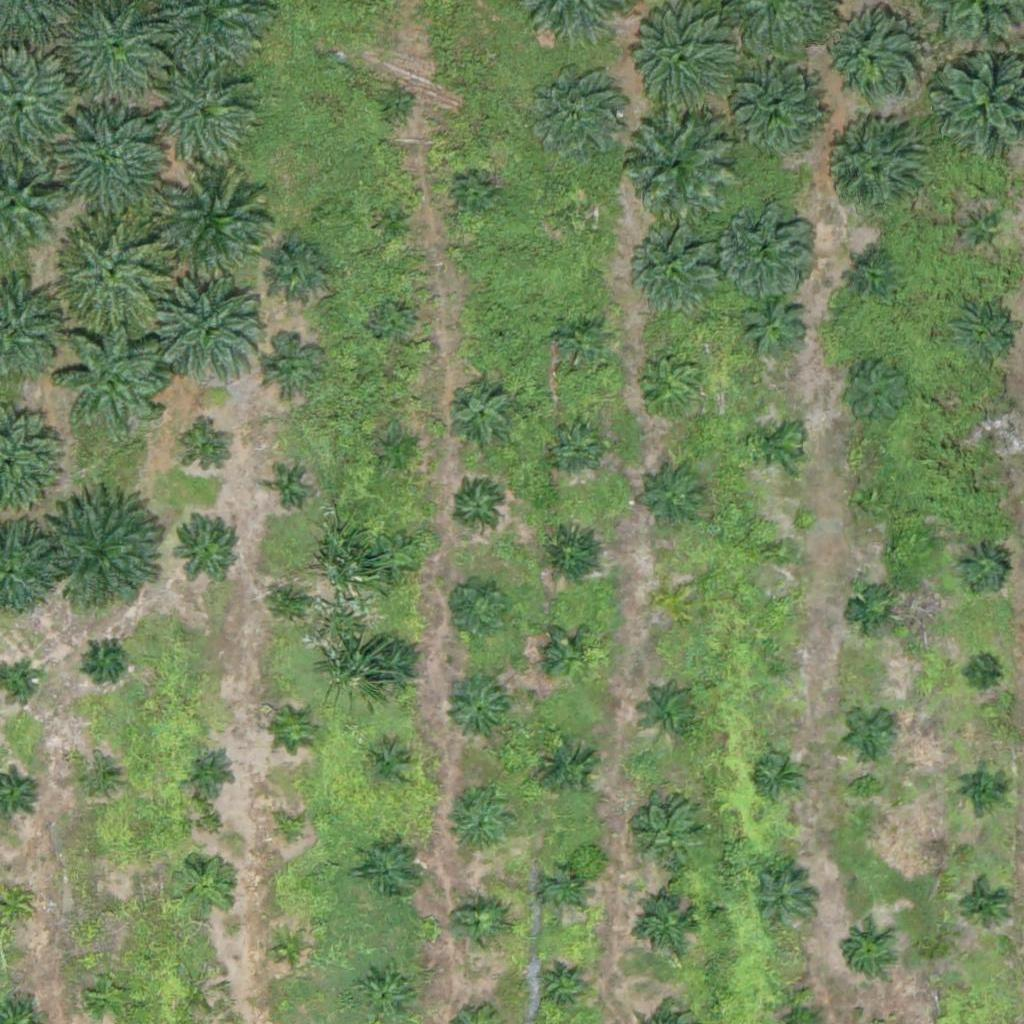Kelapa_Sawit: (44, 105, 169, 231), (156, 173, 281, 299), (46, 493, 171, 618), (616, 107, 729, 220), (58, 320, 171, 433), (623, 3, 735, 116), (155, 280, 267, 393), (59, 215, 171, 328), (156, 68, 256, 169), (526, 63, 626, 164), (727, 63, 827, 164), (819, 8, 919, 109), (817, 121, 917, 222), (722, 198, 822, 299), (635, 231, 722, 319), (438, 573, 513, 649), (170, 509, 245, 584), (836, 354, 911, 429), (447, 794, 510, 857), (753, 867, 816, 930), (360, 837, 423, 900), (361, 637, 424, 700), (257, 336, 320, 399), (267, 238, 330, 301), (641, 466, 704, 529), (540, 521, 603, 584), (550, 311, 613, 374), (446, 678, 508, 741), (536, 738, 598, 801), (636, 895, 698, 958), (638, 805, 701, 867), (644, 683, 706, 746), (447, 380, 509, 443), (952, 302, 1014, 365), (743, 293, 805, 356), (641, 356, 703, 419), (175, 855, 237, 918), (956, 880, 1006, 931), (365, 741, 415, 792), (184, 426, 234, 477), (749, 416, 799, 467), (956, 541, 1006, 592), (372, 535, 422, 586), (454, 900, 504, 950), (958, 763, 1008, 813), (846, 708, 896, 758), (546, 630, 596, 680), (753, 751, 803, 801), (841, 926, 891, 976), (454, 482, 504, 532), (548, 423, 598, 473), (848, 588, 898, 638), (952, 206, 1002, 256), (185, 746, 235, 796), (85, 971, 135, 1021), (535, 961, 584, 1012), (279, 711, 317, 749), (86, 639, 124, 677), (856, 484, 894, 522), (372, 302, 410, 340), (376, 204, 414, 242), (377, 85, 415, 123), (379, 428, 417, 466), (272, 812, 310, 850), (270, 931, 308, 969), (3, 665, 40, 703), (854, 260, 892, 297), (562, 198, 600, 235), (545, 870, 582, 908), (458, 178, 495, 216), (80, 763, 117, 801), (92, 892, 129, 930), (270, 473, 307, 510), (274, 583, 311, 620), (979, 417, 1004, 442), (968, 660, 993, 685), (767, 653, 792, 678), (767, 537, 792, 562), (662, 591, 687, 616), (489, 328, 514, 353)
